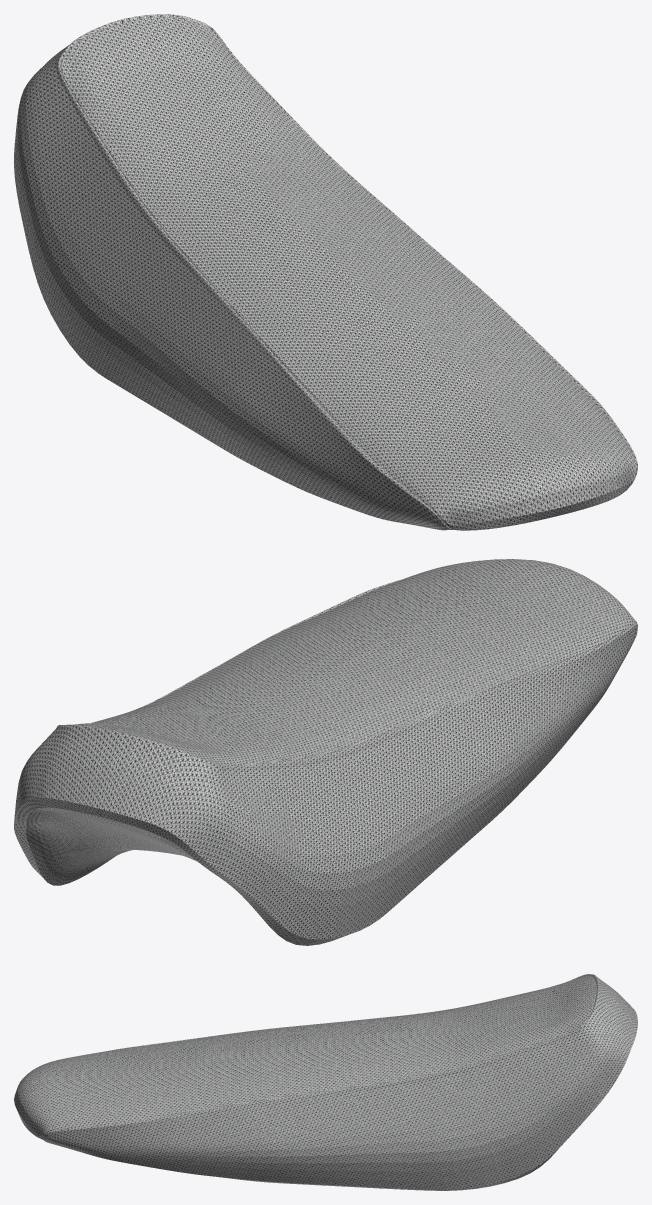
File: 349_MainSeat-b759298e.glb
The picture shows the model from 3 angles, top to bottom: view 1: azimuth 30°, elevation 25°; view 2: azimuth 150°, elevation 25°; view 3: azimuth 270°, elevation 25°; orthographic projection. The views are drawn at different scales.
Visible parts, largest first — view 1: Seat; view 2: Seat; view 3: Seat.
Boxes of the visible parts, x1,y1,x2,y2 form: Seat: (14,14,637,530); Seat: (14,559,637,945); Seat: (14,974,637,1190).
Bounding box in the file's own units: 0.231 × 0.1834 × 0.6419.
Materials: 3 (3 with a texture image).
